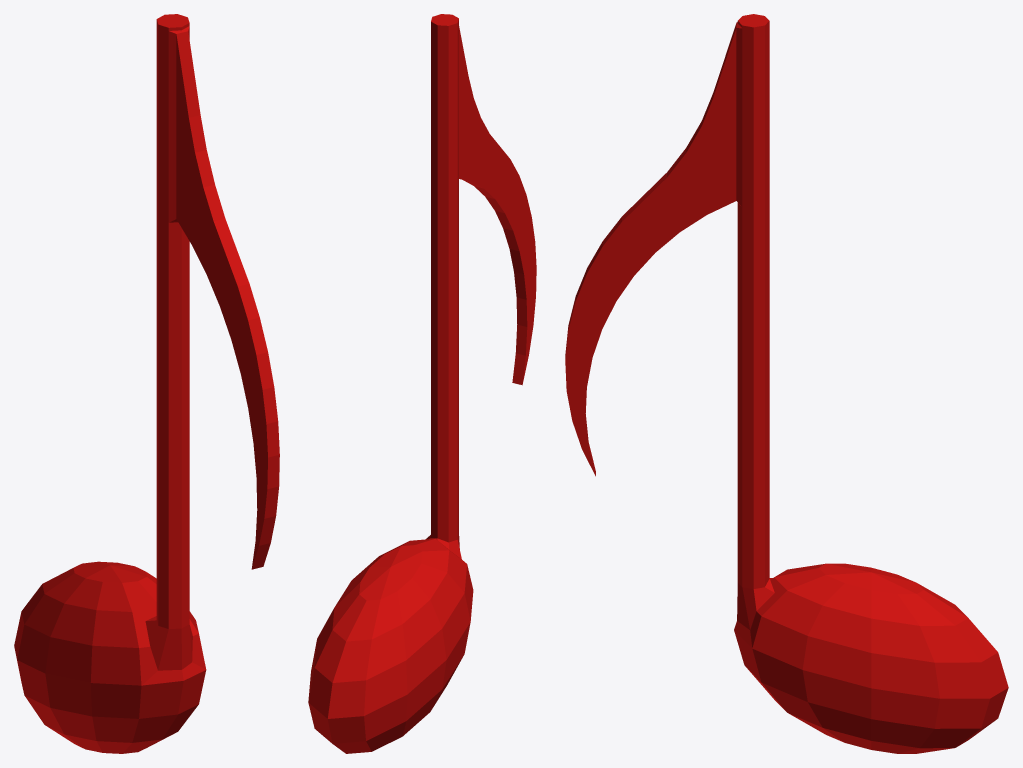
Rendered from music_4.obj.
3 renders of one model, left to right at view 1: azimuth 30°, elevation 25°; view 2: azimuth 150°, elevation 25°; view 3: azimuth 270°, elevation 25°, orthographic. The views are drawn at different scales.
Parts seen in each view (by area): view 1: Mesh_MusicNote; view 2: Mesh_MusicNote; view 3: Mesh_MusicNote.
Part boxes in pixels (<box>): Mesh_MusicNote: <box>14,14,279,753</box>; Mesh_MusicNote: <box>308,14,536,753</box>; Mesh_MusicNote: <box>565,14,1008,753</box>.
Size of the model in its own units: 2.2 by 12.65 by 6.97.
